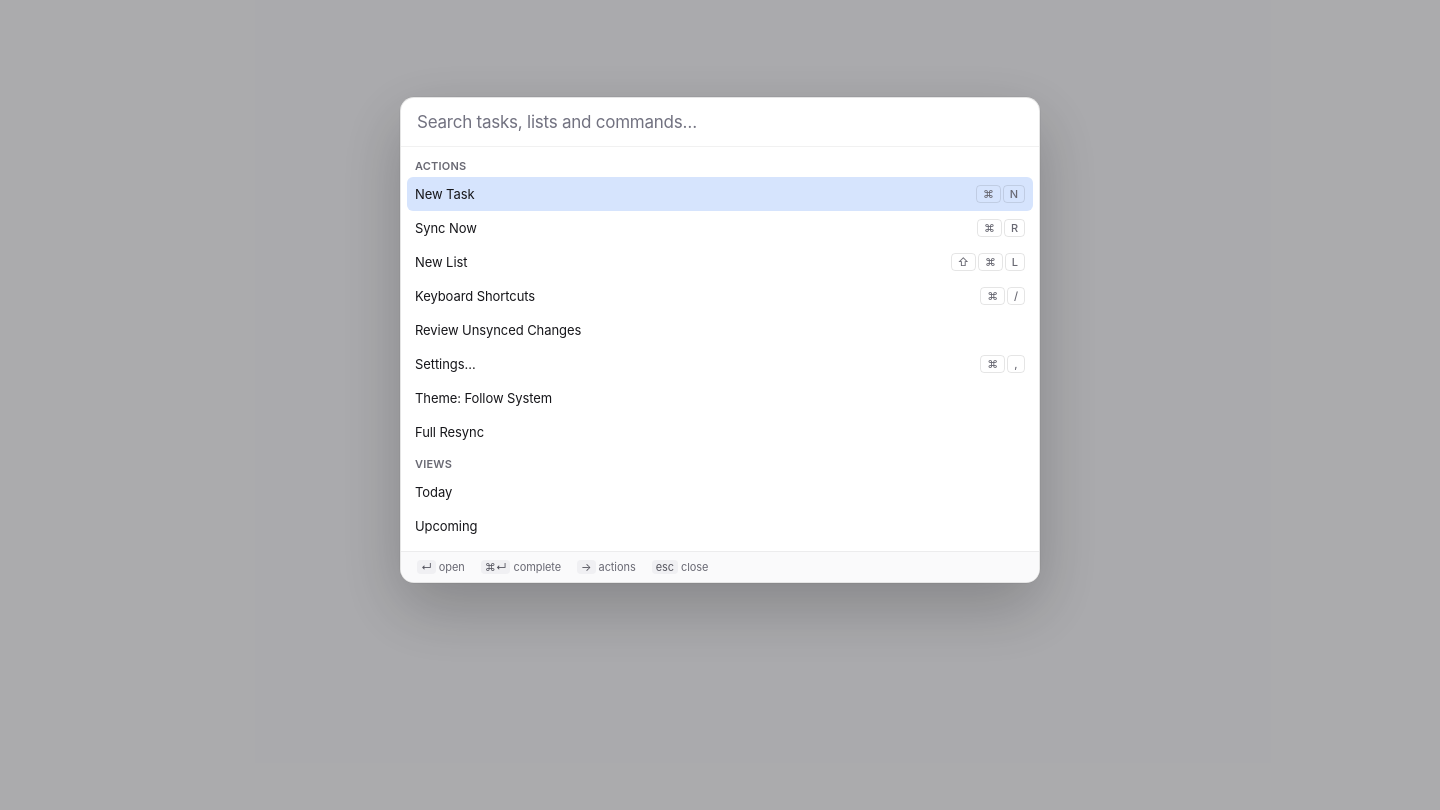
Test: CommandPalette › @ restricts the palette to tasks
Type "@" into the dropdown at (720, 122), box [417, 106, 1023, 138]
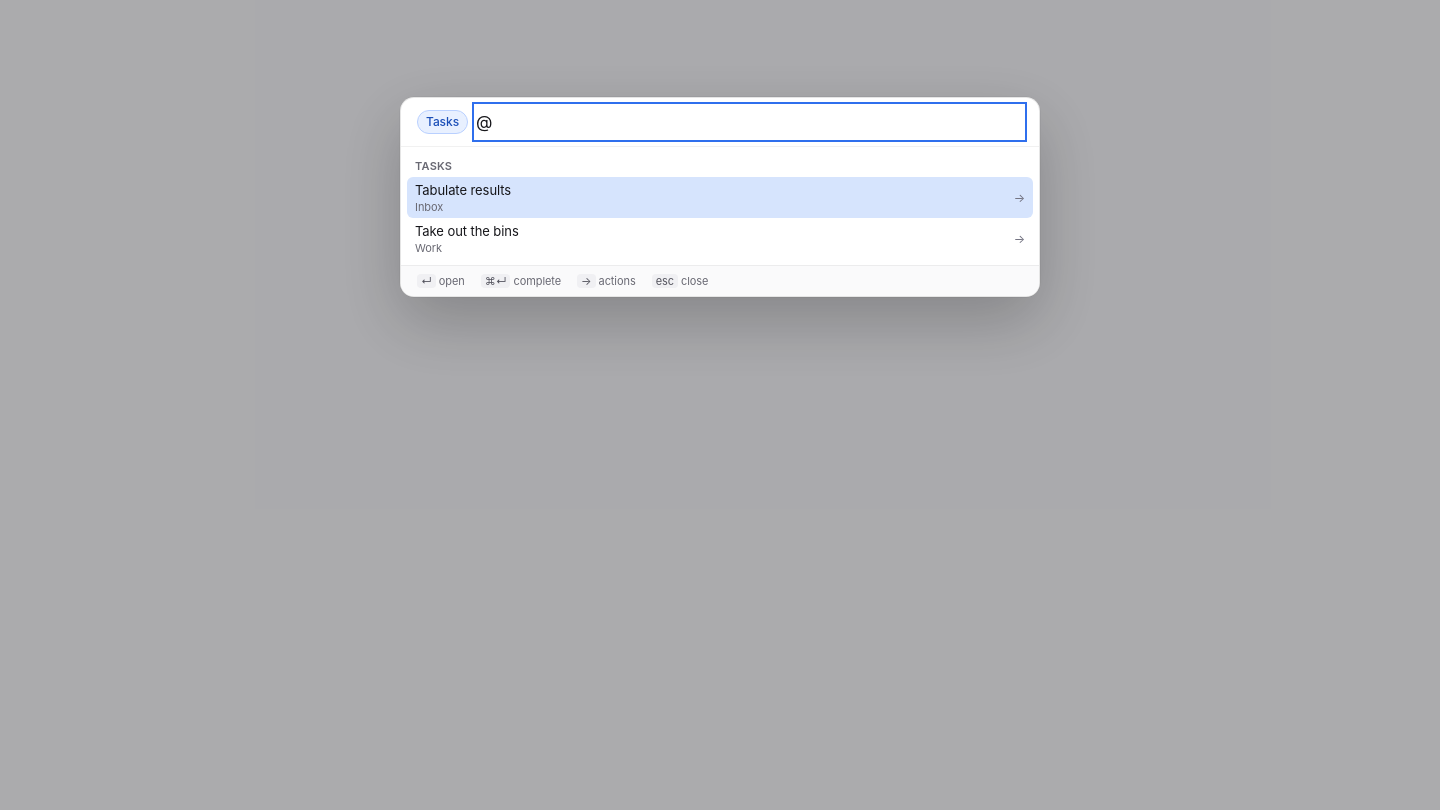
Expected: the number of options is 2, [407, 177, 1033, 218]; [407, 218, 1033, 259]
